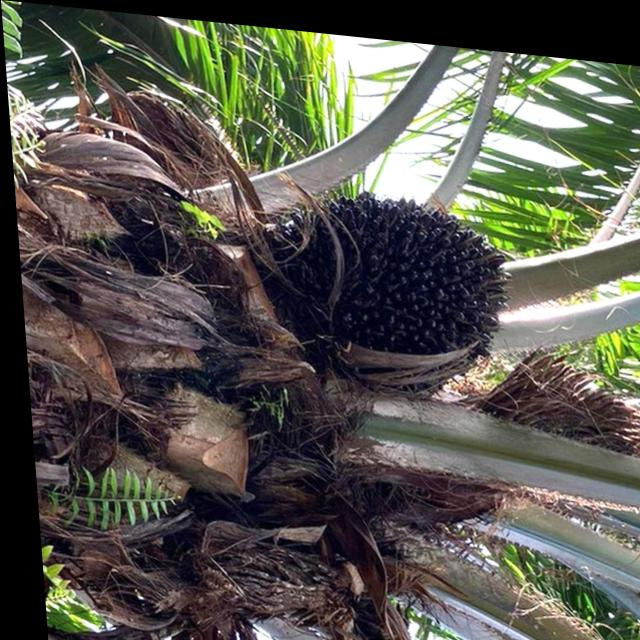unripe: (277, 180, 512, 384)
